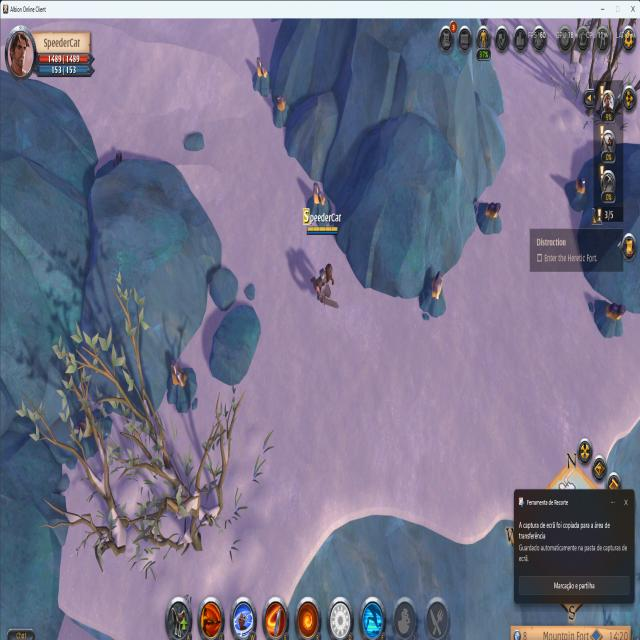copper: (588, 291, 626, 345), (164, 358, 200, 415), (303, 176, 334, 233), (418, 267, 448, 325), (564, 172, 589, 214), (478, 198, 503, 238), (252, 55, 272, 98), (273, 93, 293, 131)
